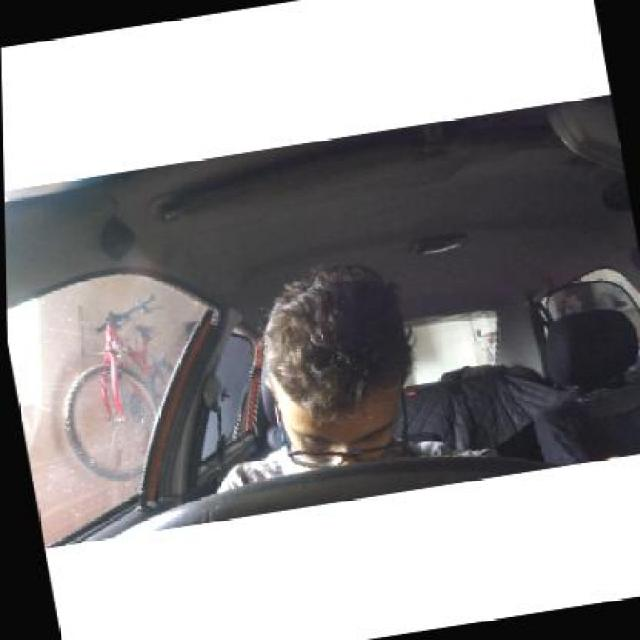drowsy: (259, 282, 424, 469)
